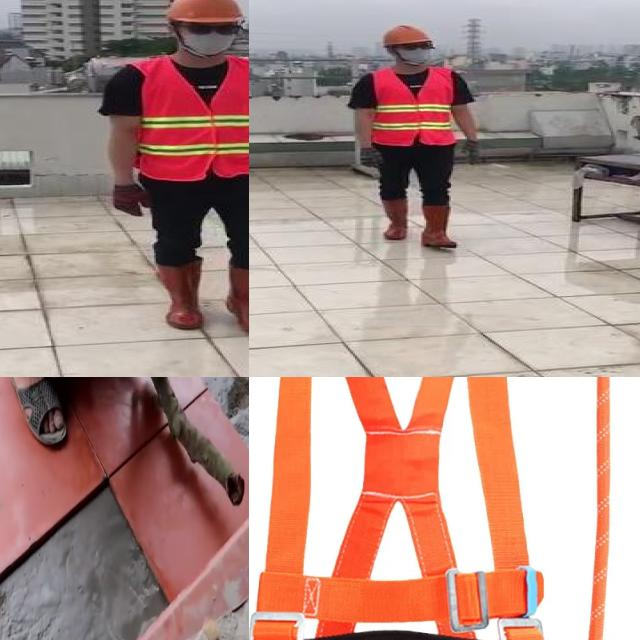Harness: (249, 377, 585, 640)
Sandals: (1, 377, 67, 454)
boots: (154, 261, 206, 330), (220, 264, 249, 333), (422, 205, 462, 249), (378, 197, 410, 241)
face_mask: (180, 20, 242, 55), (396, 38, 438, 64)
glasses: (182, 19, 238, 36), (395, 41, 436, 53)
hand_glove: (111, 182, 152, 218), (460, 139, 483, 166), (356, 148, 382, 169)
head_helmet: (163, 0, 246, 26), (378, 24, 435, 49)
person: (104, 0, 249, 341), (351, 18, 491, 256)
vest: (134, 56, 249, 177), (371, 66, 455, 145)
